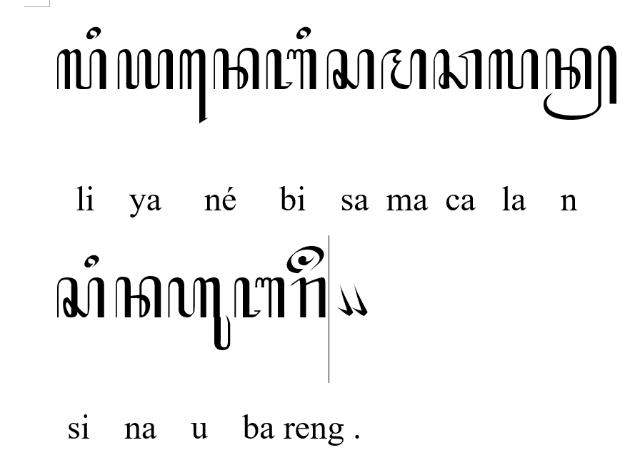-n: (542, 44, 618, 122)
b: (234, 276, 286, 320), (266, 48, 318, 89)
c: (431, 48, 483, 90)
e1: (180, 48, 208, 124)
eng: (286, 247, 326, 276)
hu: (167, 277, 231, 351)
i: (295, 25, 311, 41), (86, 26, 102, 40), (84, 255, 100, 269)
kom: (336, 284, 354, 318), (352, 283, 368, 317)
l: (488, 49, 540, 91), (57, 49, 107, 91)
m: (381, 48, 427, 92)
n: (213, 48, 260, 90), (115, 276, 162, 318)
r: (290, 276, 326, 320)
s: (326, 49, 376, 91), (56, 276, 106, 318)
y: (118, 48, 174, 90)
